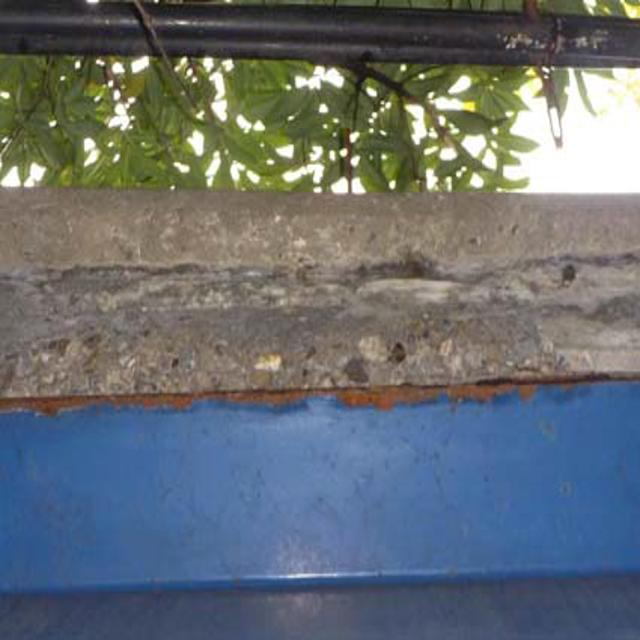corrosion: (10, 348, 636, 428)
